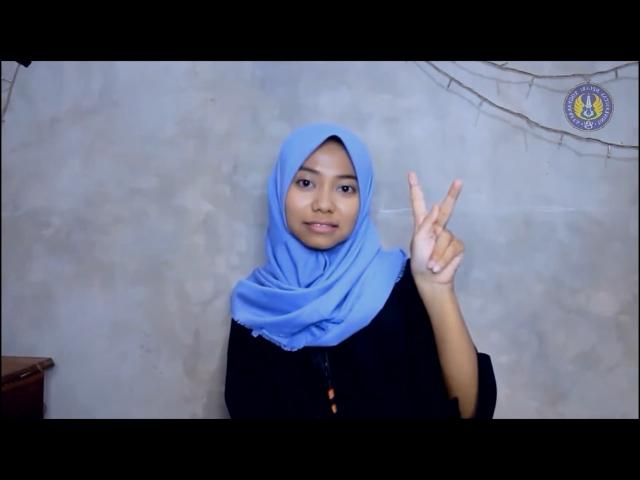K: (404, 170, 464, 292)
